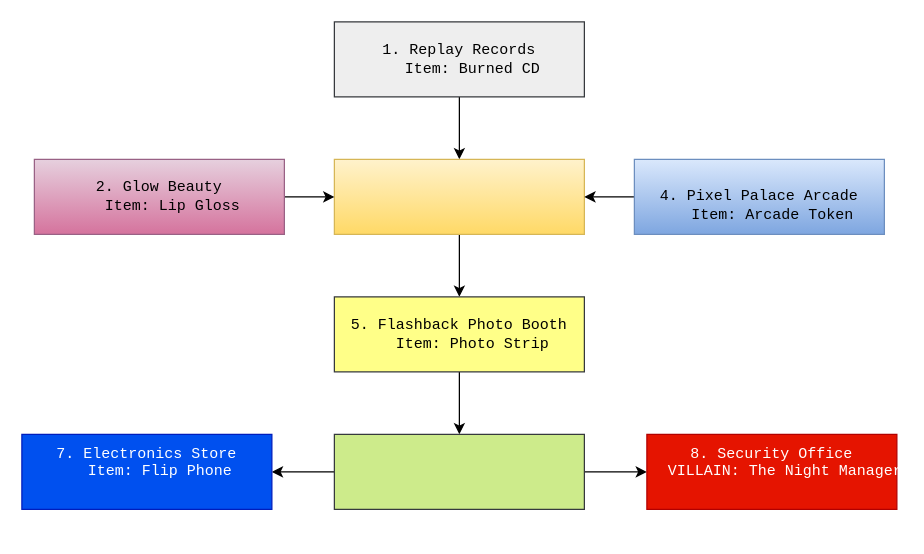
The diagram is 924 pixels wide and 554 high, and some of its shapes have lost their labels. The shapes that lost their labels are listed below. From the top down, each one's centre as x and y in pixels, then its label:
point 458,196: 3. Food Court START
point 458,471: 6. Starstruck Department Store Item: Employee Keycard
